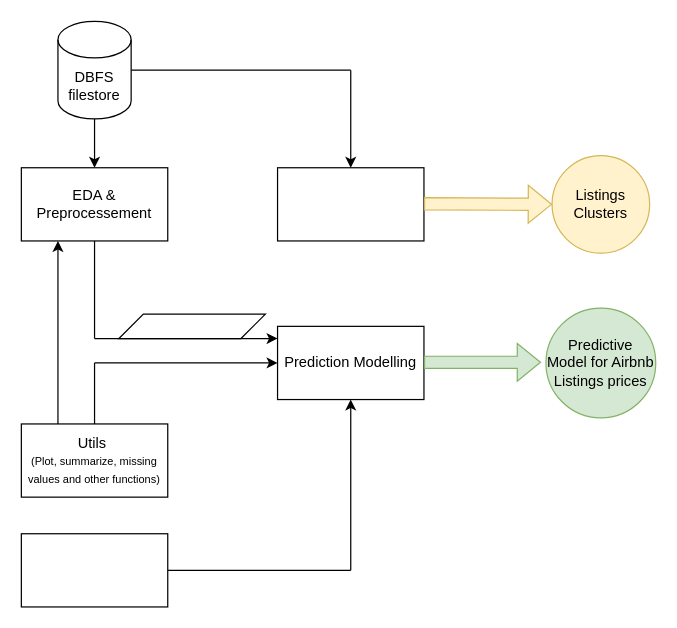
Some shapes in this 677 by 628 pixel diagram are drawn without their labels. The shapes that lost their labels are listed below. From the top down, each one's box as (x1, y1, x2, y2) in pixels, then its label:
(276, 167, 424, 241): Clustering specific preprocessement & Clustering
(118, 313, 265, 339): Preprocessed Data
(20, 533, 168, 607): Transformers
